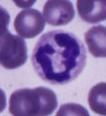N: (31, 31, 86, 84)
